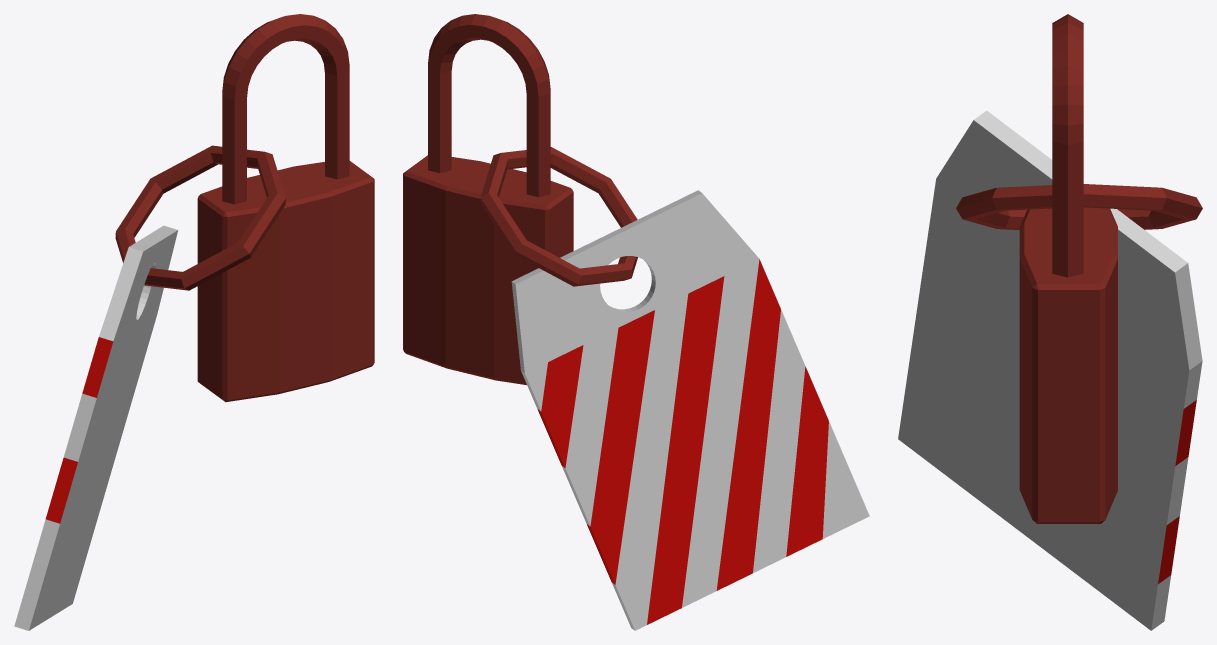
Rendered from SC2-padlock.fbx.
The picture shows the model from 3 angles, left to right: view 1: azimuth 30°, elevation 25°; view 2: azimuth 150°, elevation 25°; view 3: azimuth 270°, elevation 25°; orthographic projection. The views are drawn at different scales.
Visible parts, largest first — view 1: label-warning_1_Grid.007; view 2: label-warning_1_Grid.007; view 3: label-warning_1_Grid.007.
Part boxes in pixels (box(x1,y1,x2,y2)): label-warning_1_Grid.007: box(14, 14, 374, 630); label-warning_1_Grid.007: box(403, 14, 869, 630); label-warning_1_Grid.007: box(898, 14, 1202, 630).
Size of the model in its own units: 31.61 by 41.82 by 16.06.
